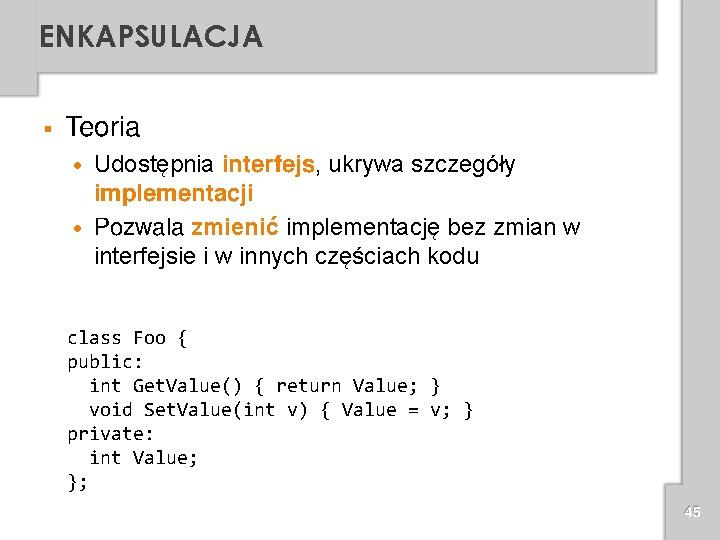paragraph: (60, 142, 608, 499)
subtitle: (35, 105, 148, 144)
title: (26, 11, 275, 60)
